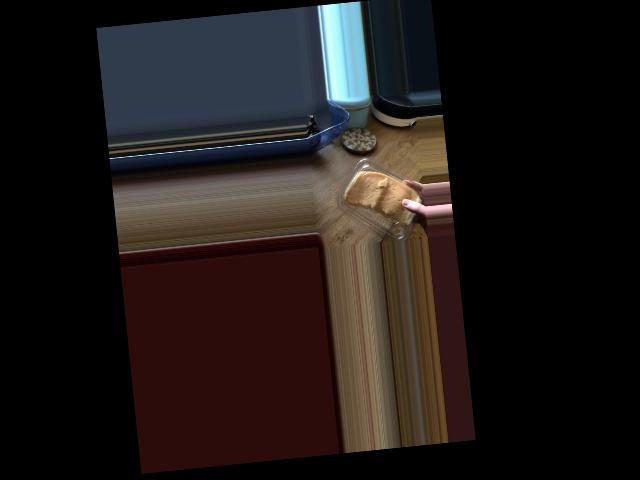cheese: (322, 146, 421, 245)
